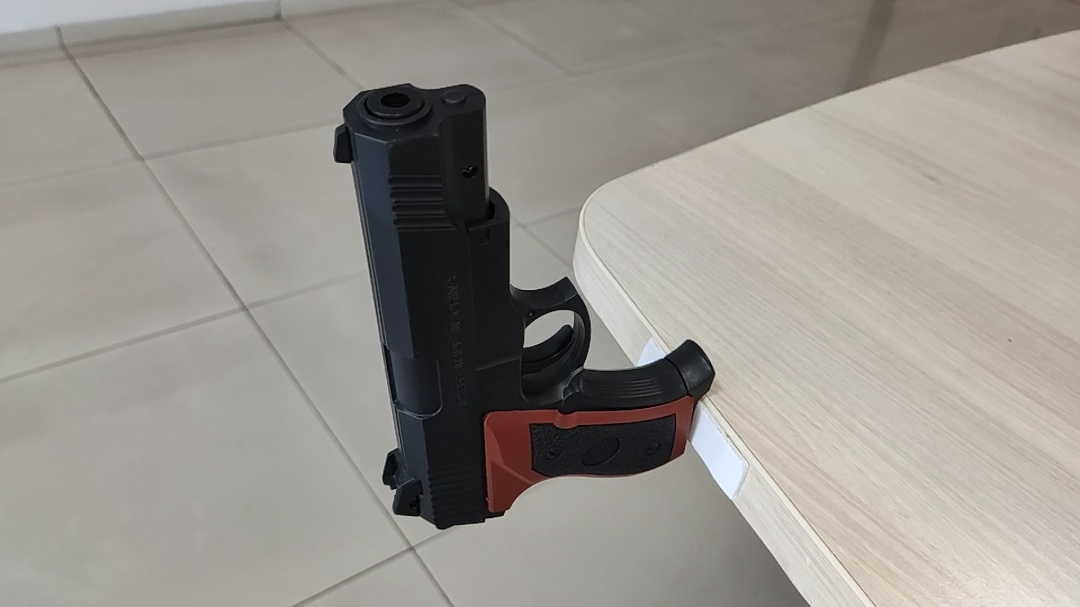gun: (332, 79, 716, 529)
